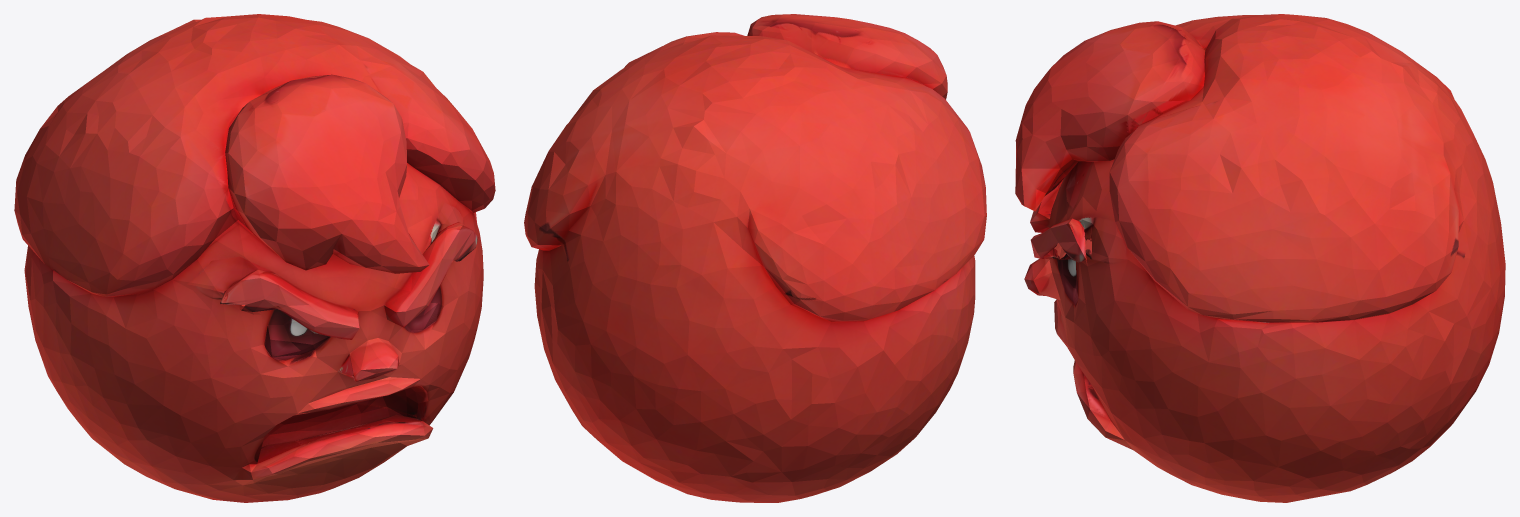
File: KarenAngryFace.fbx
3 renders of one model, left to right at view 1: azimuth 30°, elevation 25°; view 2: azimuth 150°, elevation 25°; view 3: azimuth 270°, elevation 25°, orthographic. The views are drawn at different scales.
Visible parts, largest first — view 1: temp; view 2: temp; view 3: temp.
Part boxes in pixels (x1,y1,x2,y2): temp: [14, 14, 495, 502]; temp: [524, 14, 986, 502]; temp: [1015, 14, 1505, 502].
Bounding box in the file's own units: 187 × 199 × 200.
Materials: 1 (1 with a texture image).
